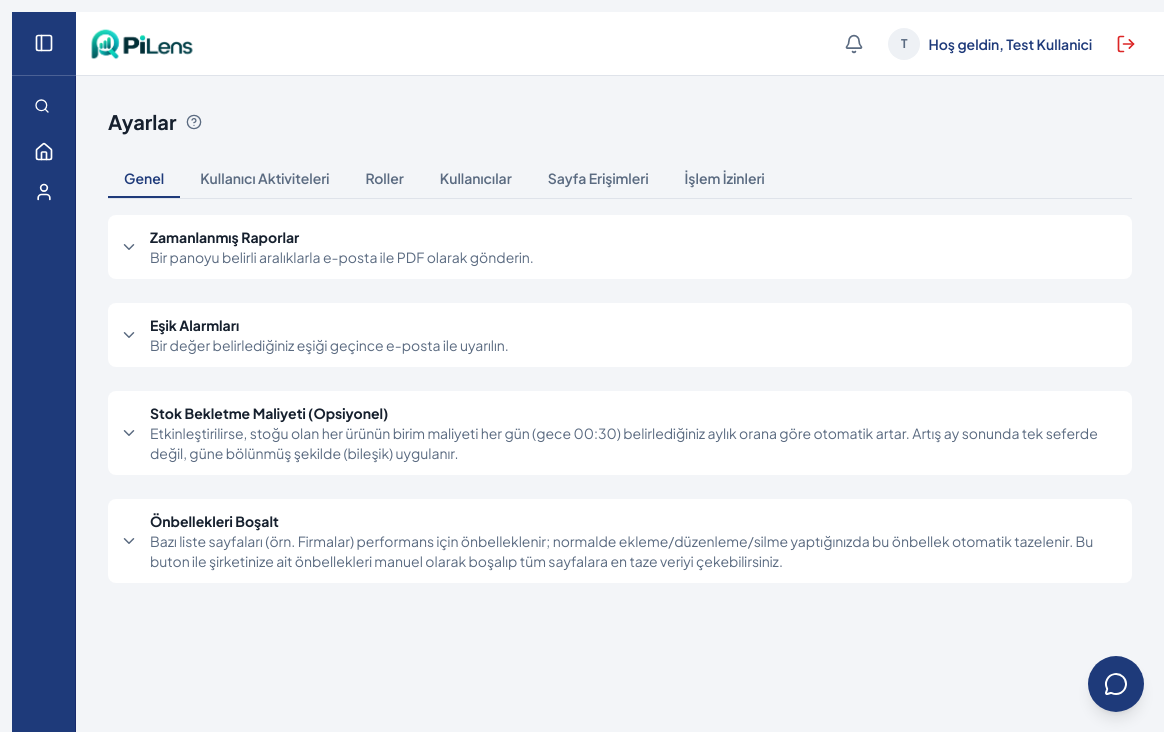
Scenario: SettingsPage › kayit yokken bos durum gosterir
This screenshot has width=1164, height=732.
Click the tab "Kullanıcı Aktiviteleri" at (265, 179), box [184,160,345,198]
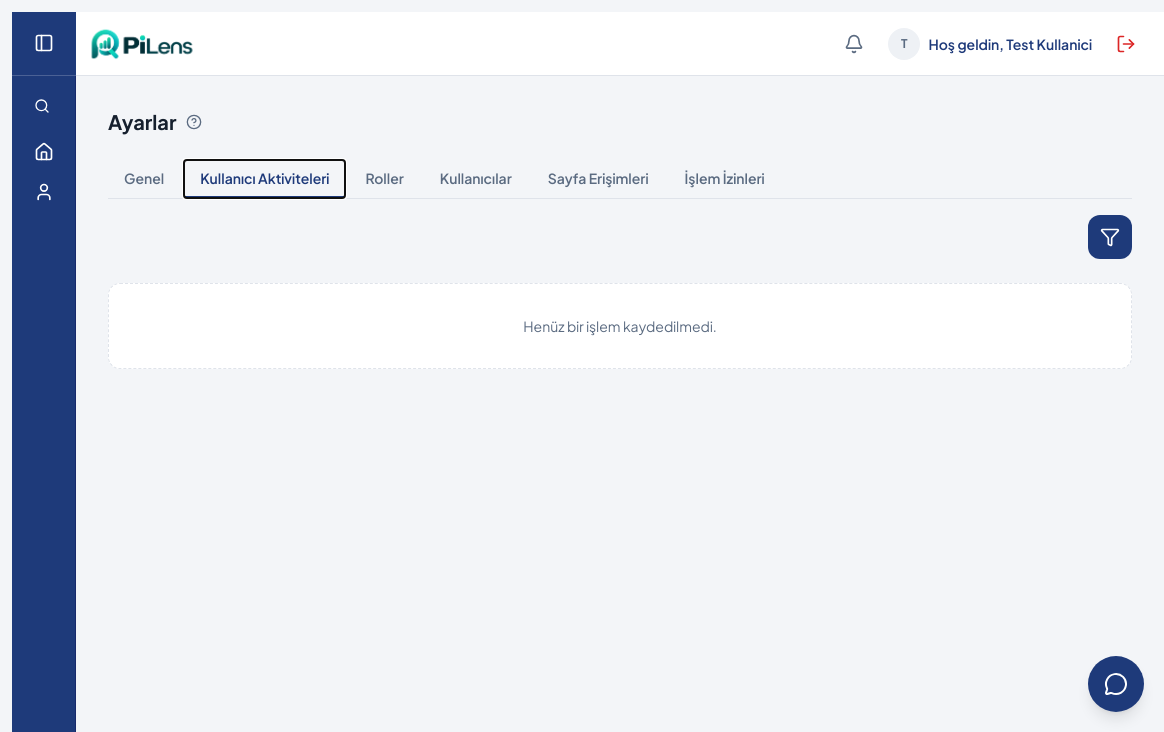
Result: the text "Henüz bir işlem kaydedilmedi." is shown at [108,283,1132,369]
